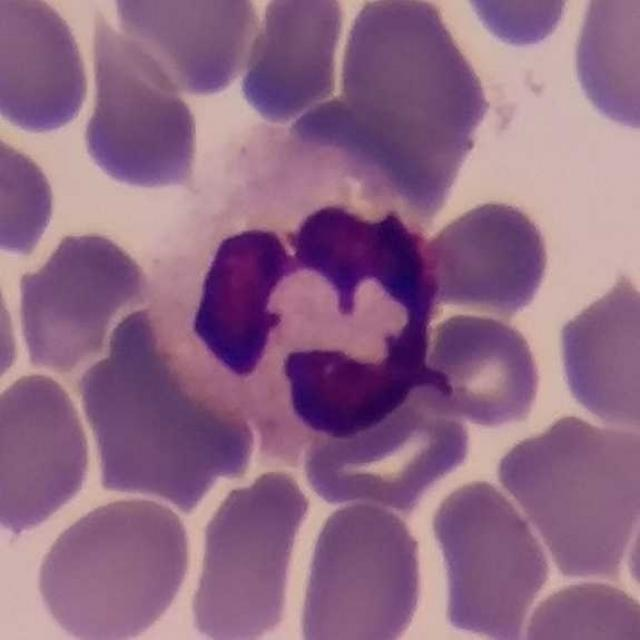Neutrophil: (153, 112, 454, 460)
RBC: (73, 304, 265, 505), (334, 0, 494, 165), (493, 410, 640, 581), (294, 377, 475, 513), (31, 492, 196, 640), (184, 465, 312, 640), (426, 474, 556, 640), (10, 224, 153, 373), (75, 31, 204, 196), (290, 496, 430, 640), (418, 193, 556, 320), (0, 367, 97, 538), (415, 307, 548, 430), (104, 0, 264, 98), (552, 266, 640, 434), (235, 0, 348, 126), (0, 0, 95, 137), (565, 0, 640, 138), (0, 124, 61, 260), (516, 574, 640, 640), (446, 0, 588, 55), (104, 0, 264, 45), (0, 244, 23, 408), (621, 474, 640, 625)
